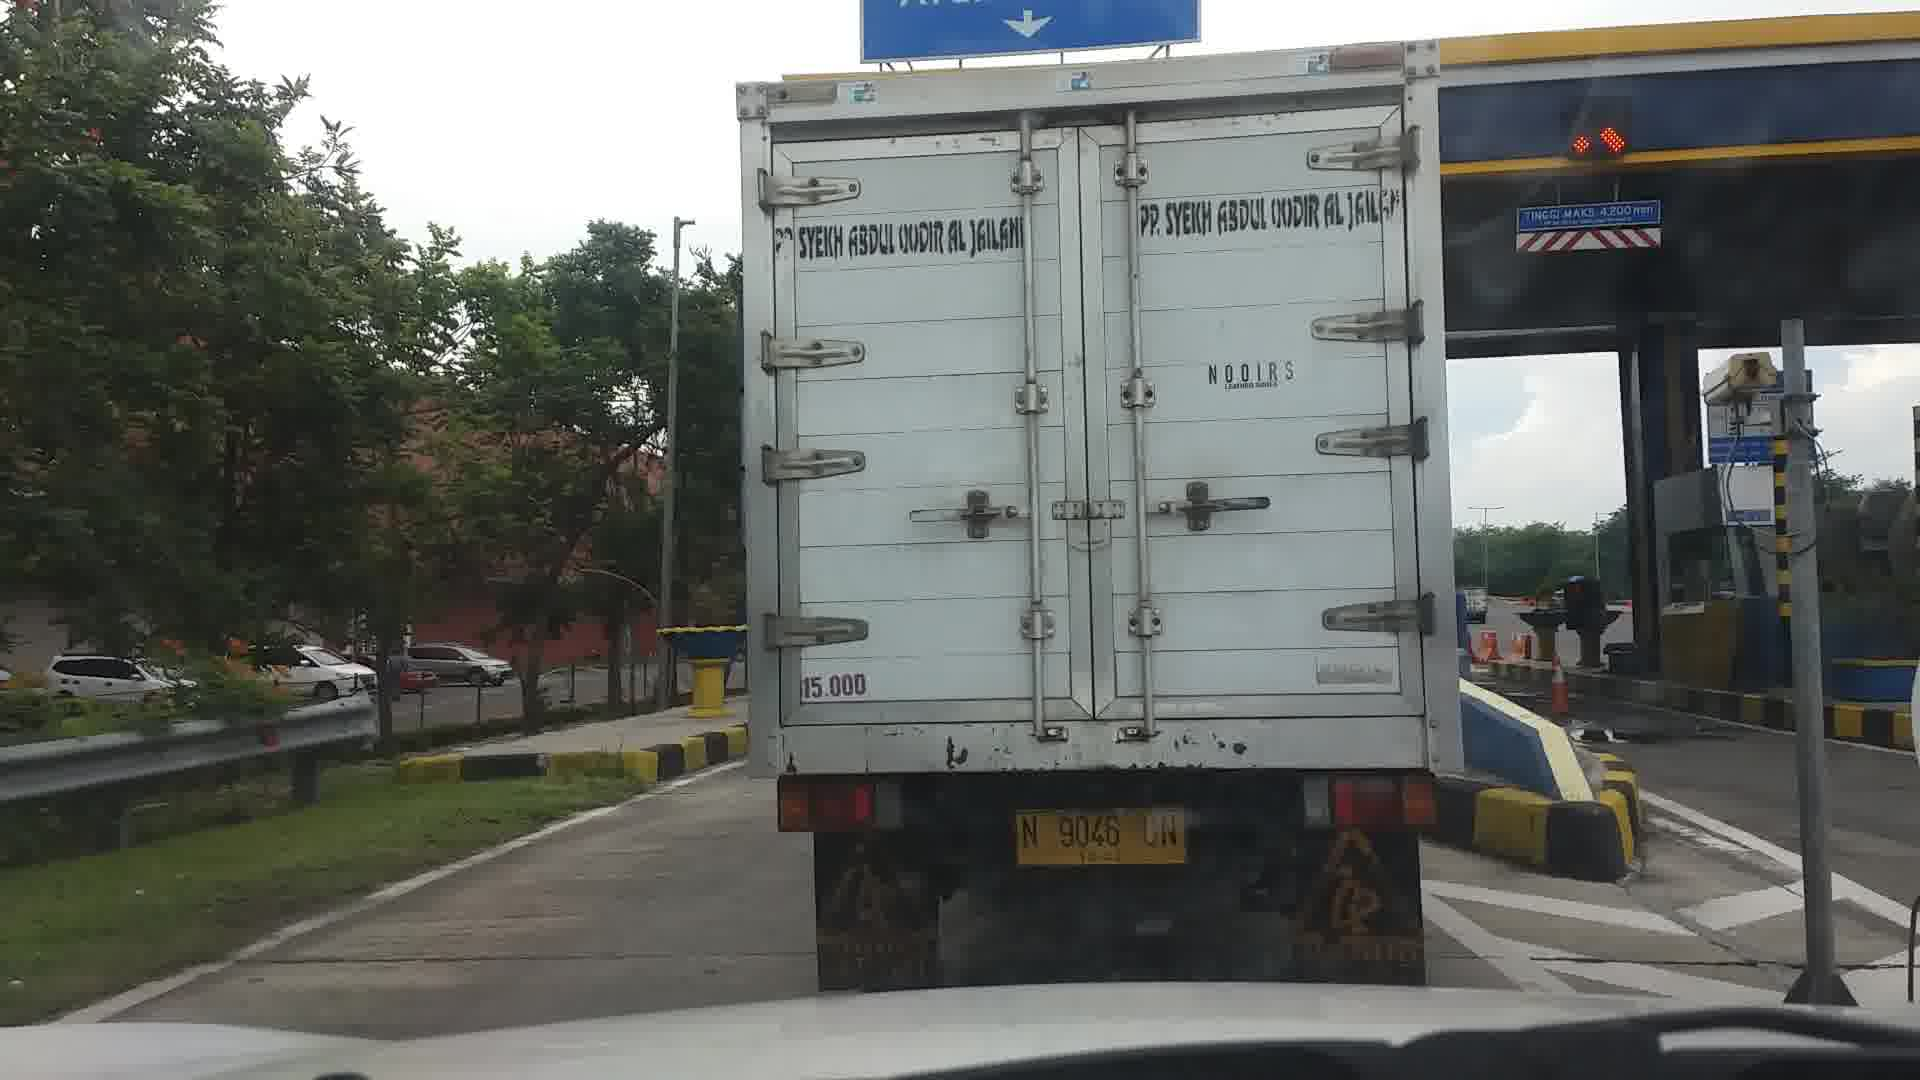plate_positive: (1015, 808, 1187, 866)
